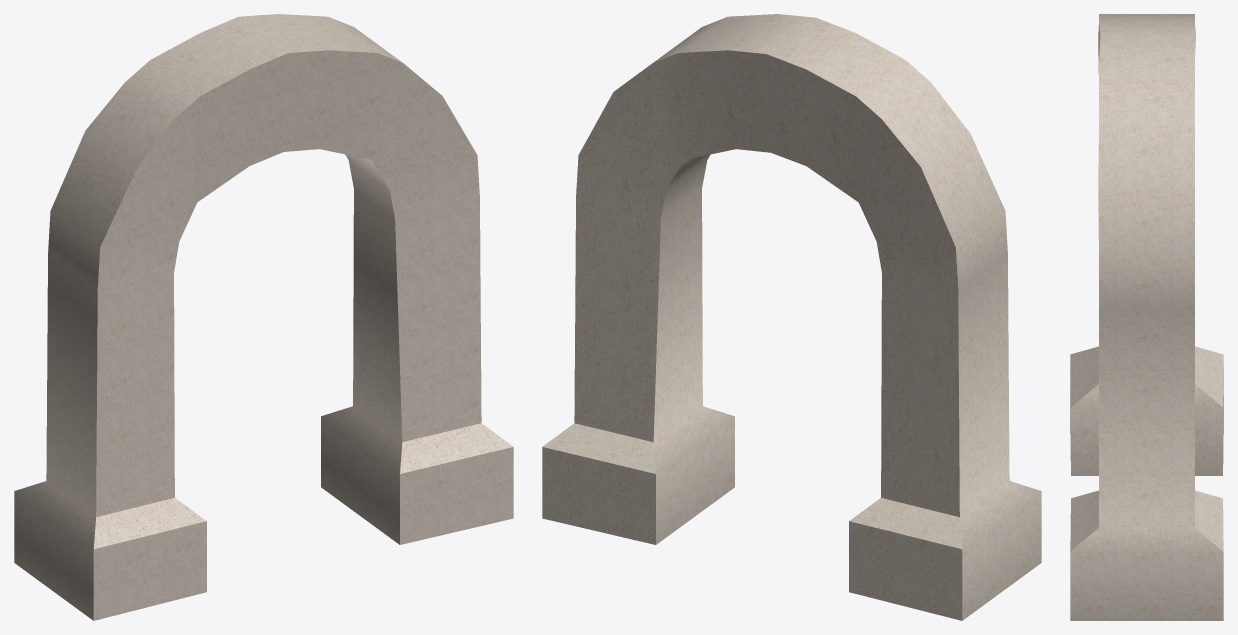
The model's file is arch.fbx.
3 renders of one model, left to right at view 1: azimuth 30°, elevation 25°; view 2: azimuth 150°, elevation 25°; view 3: azimuth 270°, elevation 25°, orthographic. The views are drawn at different scales.
Visible parts, largest first — view 1: Cube; view 2: Cube; view 3: Cube.
Boxes of the visible parts, bbox=[...] form: Cube: bbox=[14, 14, 513, 620]; Cube: bbox=[542, 14, 1041, 620]; Cube: bbox=[1070, 14, 1223, 620].
Bounding box in the file's own units: 593 × 682 × 194.
